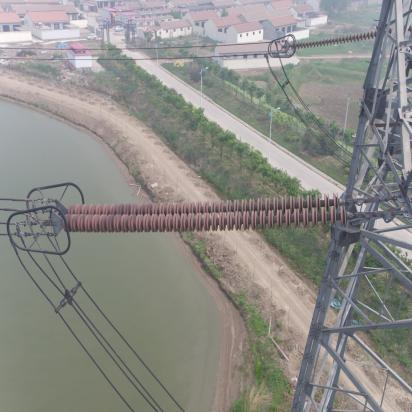insulator: (62, 192, 384, 234), (288, 30, 376, 51)
